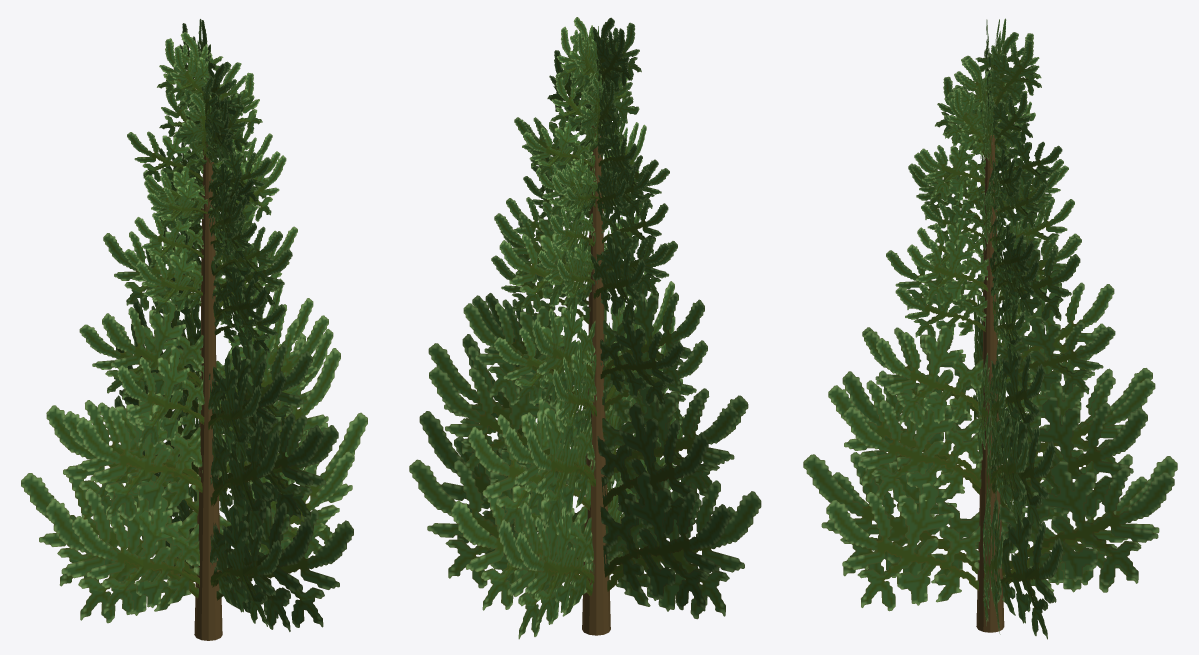
The model's file is smol_pine.fbx.
The picture shows the model from 3 angles, left to right: view 1: azimuth 30°, elevation 25°; view 2: azimuth 150°, elevation 25°; view 3: azimuth 270°, elevation 25°; orthographic projection. The views are drawn at different scales.
Visible parts, largest first — view 1: branch base.221; view 2: branch base.221; view 3: branch base.221.
Part boxes in pixels (<box>): branch base.221: <box>21,19,367,640</box>; branch base.221: <box>409,17,761,639</box>; branch base.221: <box>803,18,1177,639</box>.
Size of the model in its own units: 5.04 by 8.61 by 5.04.
Materials: 2 (1 with a texture image).
